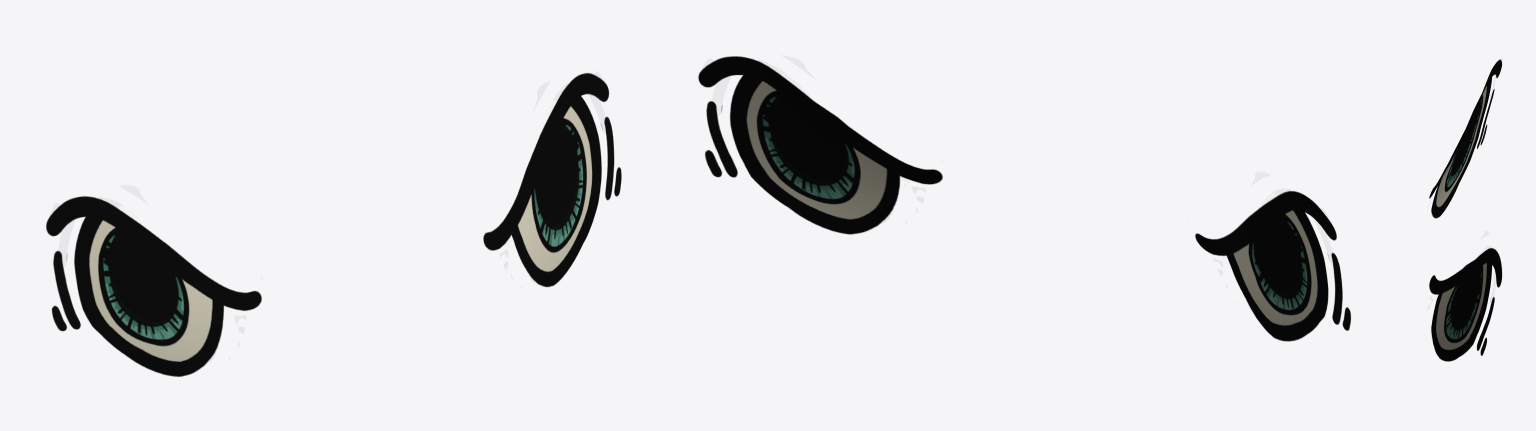
File: Eyes5.glb
The picture shows the model from 3 angles, left to right: view 1: azimuth 30°, elevation 25°; view 2: azimuth 150°, elevation 25°; view 3: azimuth 270°, elevation 25°; orthographic projection. The views are drawn at different scales.
Visible parts, largest first — view 1: Eyes5; view 2: Eyes5; view 3: Eyes5.
Boxes of the visible parts, left/top/right/bottom form: Eyes5: left=46, top=73, right=621, bottom=376; Eyes5: left=698, top=56, right=1350, bottom=341; Eyes5: left=1429, top=59, right=1501, bottom=361.
Bounding box in the file's own units: 0.28 × 0.113 × 0.0664.
1 material, 1 textured.
